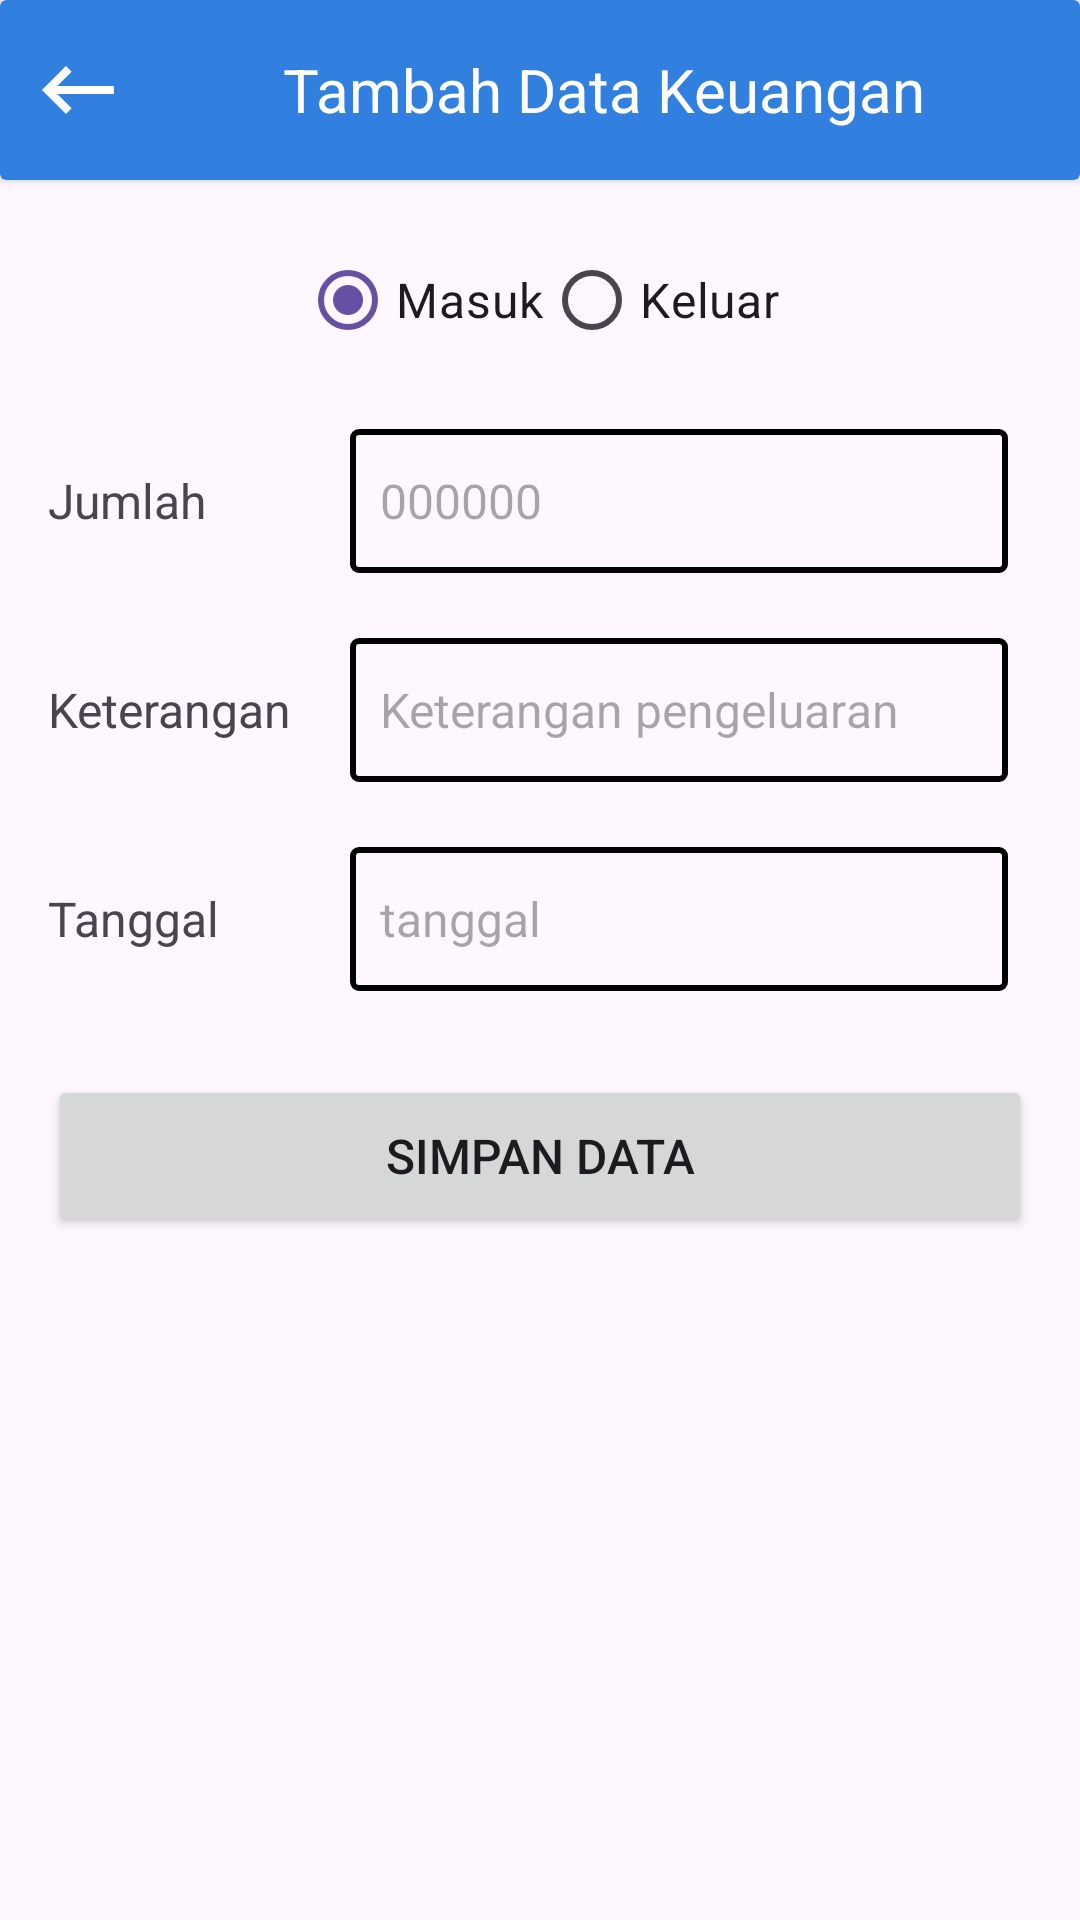

Icons on this 1080*1920 Android screen, each with the point to tap as [x,y]:
keyboard backspace: [78,90]
